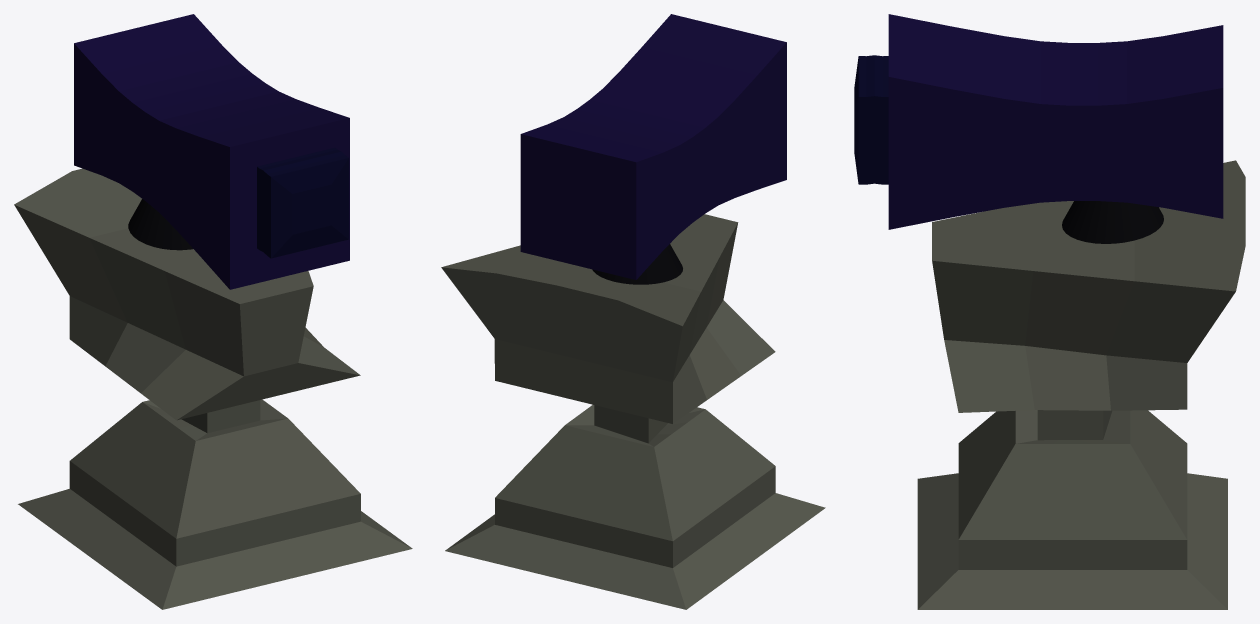
Rendered from tower2.fbx.
The picture shows the model from 3 angles, left to right: view 1: azimuth 30°, elevation 25°; view 2: azimuth 150°, elevation 25°; view 3: azimuth 270°, elevation 25°; orthographic projection. The views are drawn at different scales.
Parts seen in each view (by area): view 1: CannonBase, Cannon, Cannon2, Joint; view 2: CannonBase, Cannon, Joint; view 3: CannonBase, Cannon, Cannon2, Joint.
Boxes of the visible parts, x1,y1,x2,y2 form: CannonBase: [14, 168, 412, 609]; Cannon: [74, 14, 349, 289]; Cannon2: [257, 147, 348, 258]; Joint: [128, 199, 192, 250]; CannonBase: [441, 214, 825, 609]; Cannon: [520, 14, 786, 279]; Joint: [592, 244, 682, 284]; CannonBase: [917, 160, 1245, 609]; Cannon: [888, 14, 1223, 229]; Cannon2: [854, 55, 888, 184]; Joint: [1062, 201, 1163, 243].
Size of the model in its own units: 200 by 351 by 252.
